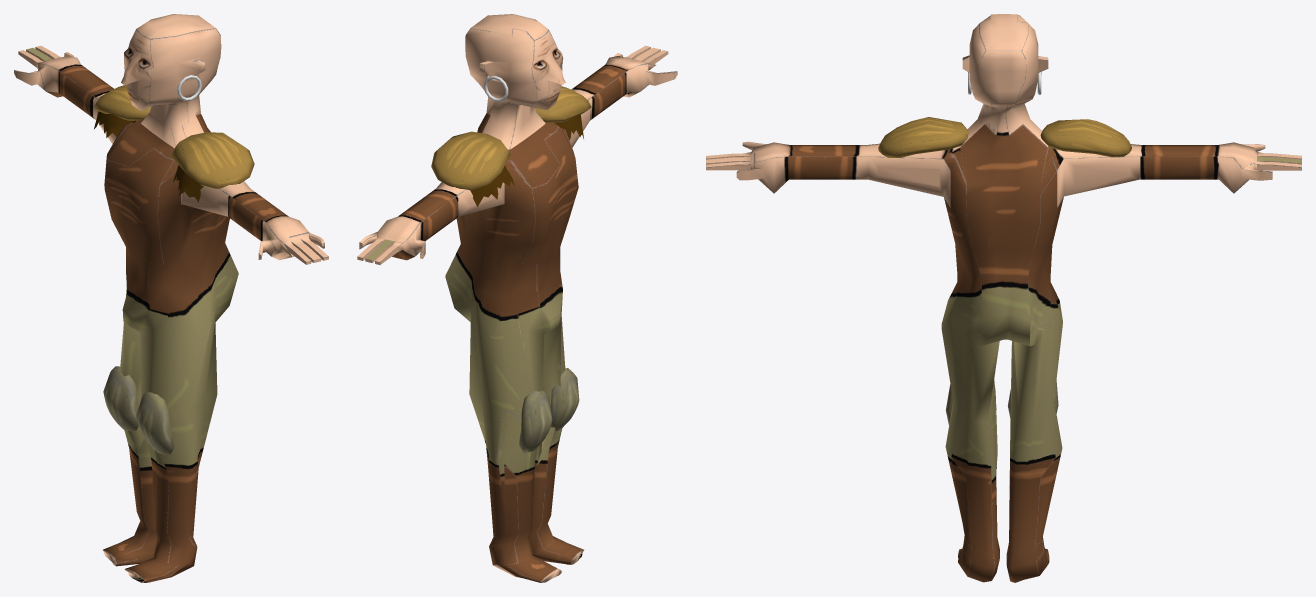
File: enemie_texture_W.I.P (1).fbx
3 views of the same model, side by side, from view 1: azimuth 30°, elevation 25°; view 2: azimuth 150°, elevation 25°; view 3: azimuth 270°, elevation 25° (orthographic). The views are drawn at different scales.
Parts seen in each view (by area): view 1: Cube, Sphere_8, Sphere_4, Sphere_5, Sphere_9, Plane_1, Plane; view 2: Cube, Sphere_9, Sphere_5, Sphere_4, Sphere_8, Plane; view 3: Cube, Sphere_8, Sphere_9.
Part boxes in pixels (x1,y1,x2,y2): Cube: (14,14,328,582); Sphere_8: (171,132,254,188); Sphere_4: (136,392,174,455); Sphere_5: (103,366,138,431); Sphere_9: (94,85,150,120); Plane_1: (173,165,203,202); Plane: (94,111,134,137); Cube: (357,14,677,582); Sphere_9: (431,131,510,190); Sphere_5: (519,391,552,453); Sphere_4: (550,368,579,431); Sphere_8: (536,86,591,122); Plane: (470,166,514,206); Cube: (706,14,1301,582); Sphere_8: (878,117,968,157); Sphere_9: (1040,119,1131,157).
Size of the model in its own units: 287 by 1350 by 1306.
Materials: 4 (3 with a texture image).
